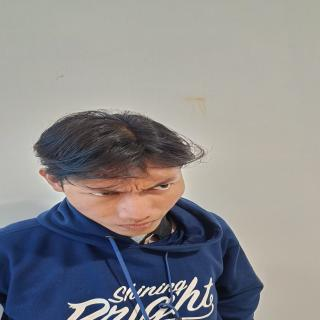Marah: (58, 149, 190, 243)
